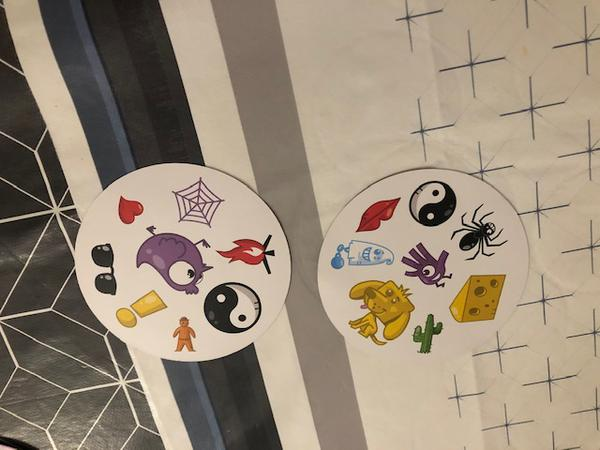araignee: (448, 205, 506, 262)
bonhomme: (168, 315, 201, 356)
bouche: (349, 187, 405, 234)
cactus: (409, 310, 443, 359)
chien: (344, 277, 414, 348)
coeur: (116, 193, 147, 228)
dooble: (395, 239, 454, 287)
fantome: (330, 237, 394, 271)
feu: (214, 230, 280, 275)
fromage: (447, 273, 508, 324)
lunette: (90, 241, 120, 296)
oiseau: (130, 220, 214, 292)
point_exclamation: (114, 288, 173, 329)
toile: (167, 174, 229, 231)
ying_yang: (202, 279, 266, 337), (403, 176, 457, 232)
